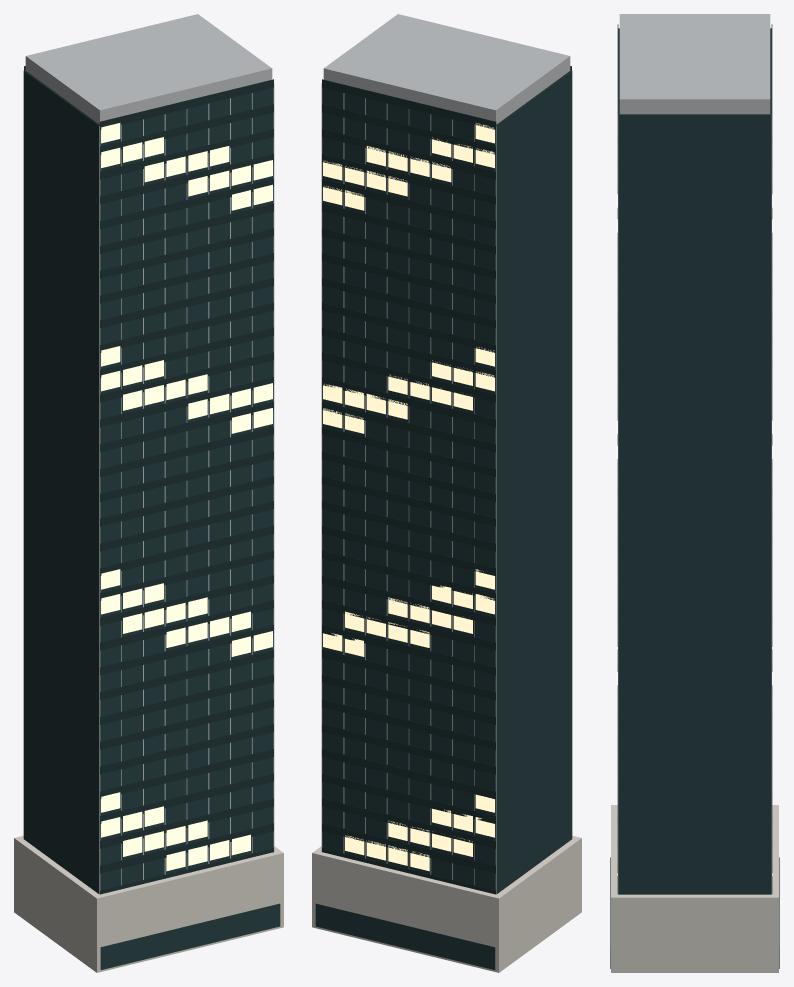
The model's file is tower_office_teal_34.glb.
3 views of the same model, side by side, from view 1: azimuth 30°, elevation 25°; view 2: azimuth 150°, elevation 25°; view 3: azimuth 270°, elevation 25° (orthographic).
Parts seen in each view (by area): view 1: tower_office_teal_34; view 2: tower_office_teal_34; view 3: tower_office_teal_34.
Part boxes in pixels (box(x1,y1,x2,y2)): tower_office_teal_34: box(14, 14, 283, 972); tower_office_teal_34: box(312, 14, 581, 972); tower_office_teal_34: box(610, 14, 779, 972).
Bounding box in the file's own units: 29.2 × 128 × 22.54.
